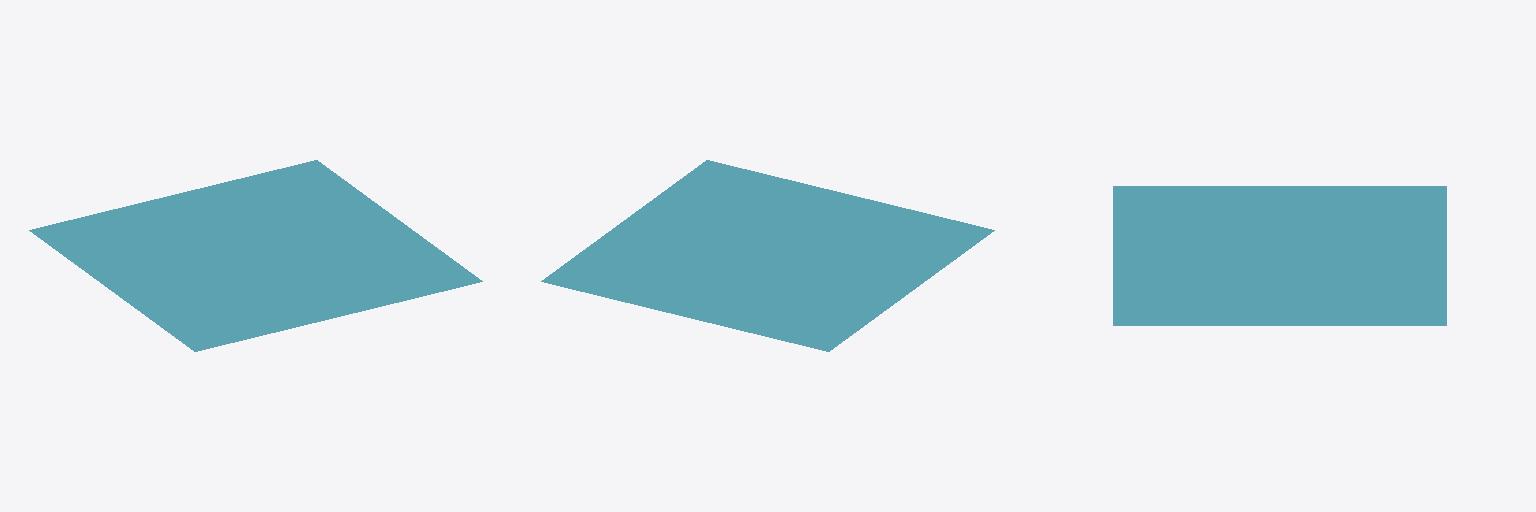
Rendered from Blue Wall.obj.
3 renders of one model, left to right at view 1: azimuth 30°, elevation 25°; view 2: azimuth 150°, elevation 25°; view 3: azimuth 270°, elevation 25°, orthographic.
Parts seen in each view (by area): view 1: Blue_Wall; view 2: Blue_Wall; view 3: Blue_Wall.
Boxes of the visible parts, x1=… form: Blue_Wall: x1=29, y1=160, x2=482, y2=351; Blue_Wall: x1=541, y1=160, x2=994, y2=351; Blue_Wall: x1=1113, y1=186, x2=1446, y2=325.
Bounding box in the file's own units: 108 × 0 × 108.